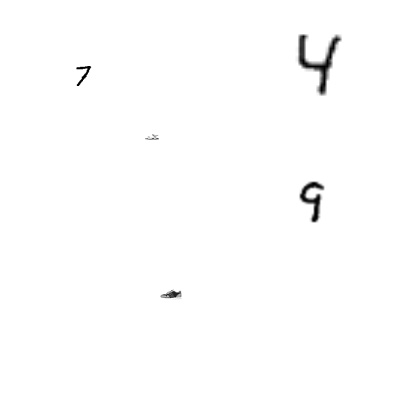0: (130, 26, 152, 48)
1: (281, 64, 295, 78)
3: (308, 94, 364, 150)
7: (176, 233, 204, 261)
Dress: (60, 97, 88, 125)
Pullover: (278, 299, 306, 327)
Sandal: (175, 105, 197, 127)
T-shirt/top: (176, 179, 232, 235)
Trouser: (166, 292, 194, 320)
